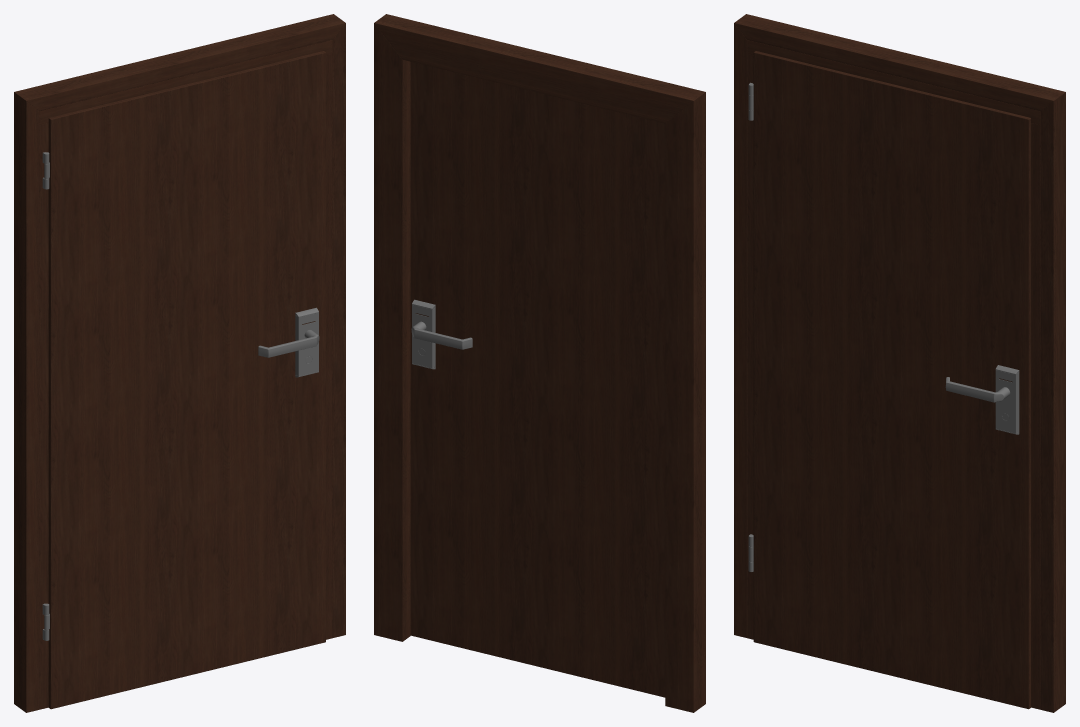
The picture shows the model from 3 angles, left to right: view 1: azimuth 30°, elevation 25°; view 2: azimuth 150°, elevation 25°; view 3: azimuth 330°, elevation 25°; orthographic projection.
Parts seen in each view (by area): view 1: AM109_041_00, AM109_041_01; view 2: AM109_041_00, AM109_041_01; view 3: AM109_041_00, AM109_041_01.
Part boxes in pixels (x1,y1,x2,y2): AM109_041_00: [44, 51, 325, 709]; AM109_041_01: [14, 14, 345, 712]; AM109_041_00: [410, 62, 665, 697]; AM109_041_01: [374, 14, 705, 712]; AM109_041_00: [748, 51, 1030, 709]; AM109_041_01: [734, 14, 1065, 712].
Size of the model in its own units: 34 by 62.22 by 5.85.
Materials: 2 (1 with a texture image).
